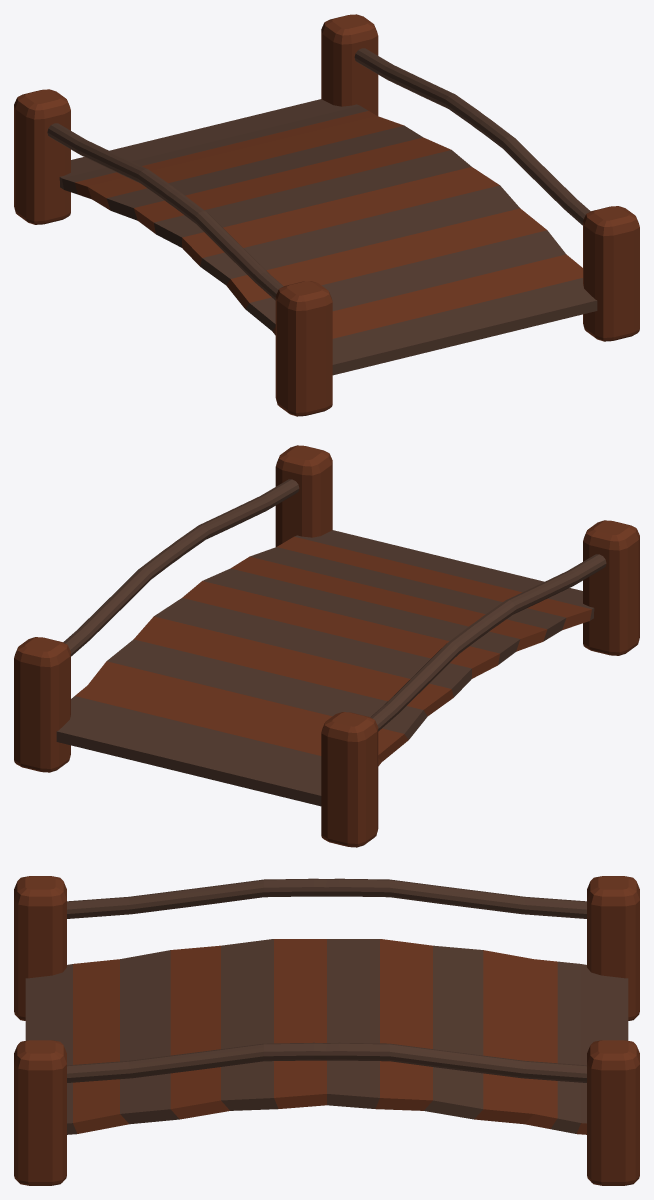
Rendered from lowpoly_bridge.glb.
3 views of the same model, one above another, from view 1: azimuth 30°, elevation 25°; view 2: azimuth 150°, elevation 25°; view 3: azimuth 270°, elevation 25° (orthographic). The views are drawn at different scales.
Visible parts, largest first — view 1: Bridge; view 2: Bridge; view 3: Bridge.
Part boxes in pixels (box(x1,y1,x2,y2)): Bridge: box(14, 14, 639, 416); Bridge: box(14, 445, 639, 847); Bridge: box(14, 876, 639, 1185).
Bounding box in the file's own units: 11.5 × 3.79 × 16.23.
